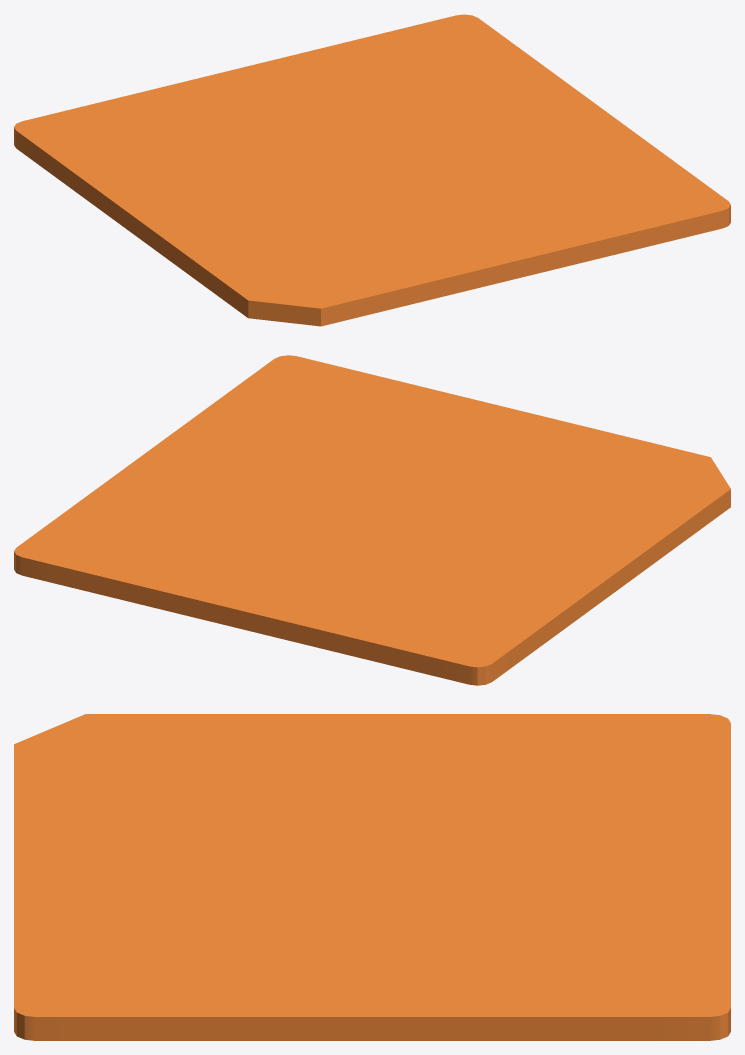
File: D_FloppyDisk.fbx
3 renders of one model, top to bottom at view 1: azimuth 30°, elevation 25°; view 2: azimuth 150°, elevation 25°; view 3: azimuth 270°, elevation 25°, orthographic. The views are drawn at different scales.
Visible parts, largest first — view 1: D_FloppyDisk; view 2: D_FloppyDisk; view 3: D_FloppyDisk.
Boxes of the visible parts, x1,y1,x2,y2 form: D_FloppyDisk: [14, 14, 730, 326]; D_FloppyDisk: [14, 355, 730, 685]; D_FloppyDisk: [14, 714, 730, 1040].
Bounding box in the file's own units: 1.44 × 0.0532 × 1.44.
1 material, 1 textured.
